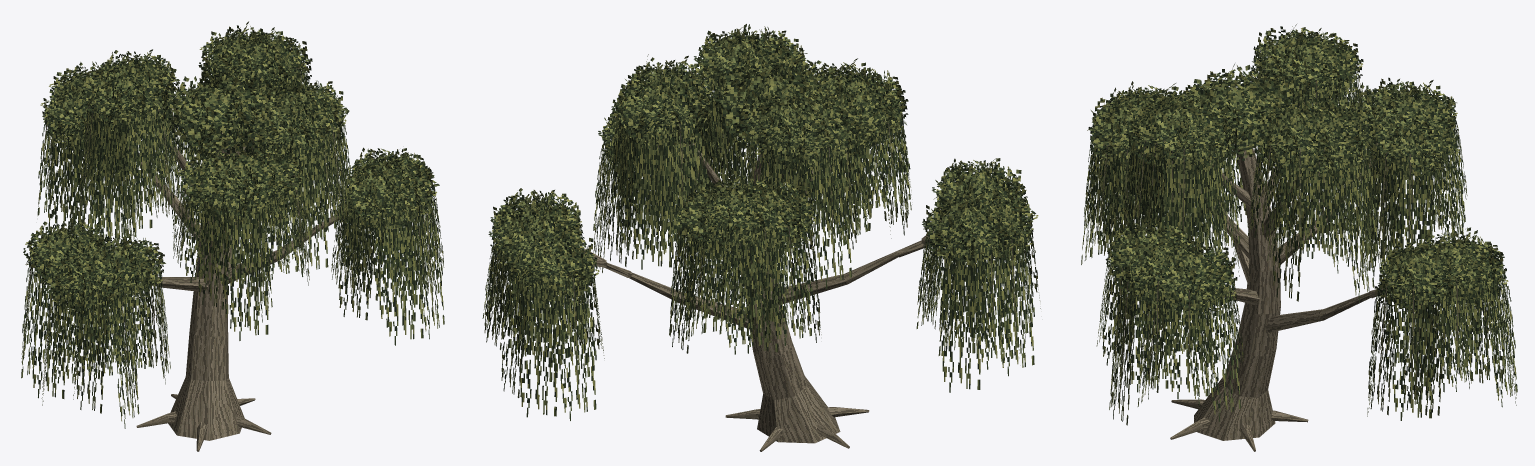
File: TREE_Willow_A.glb
3 views of the same model, side by side, from view 1: azimuth 30°, elevation 25°; view 2: azimuth 150°, elevation 25°; view 3: azimuth 270°, elevation 25° (orthographic). The views are drawn at different scales.
Visible parts, largest first — view 1: TREE_Willow_A__Card, TREE_Willow_A__Bark, TREE_Willow_A__Foliage; view 2: TREE_Willow_A__Card, TREE_Willow_A__Bark, TREE_Willow_A__Foliage; view 3: TREE_Willow_A__Card, TREE_Willow_A__Bark, TREE_Willow_A__Foliage.
Part boxes in pixels (<box>): TREE_Willow_A__Card: <box>21,21,444,428</box>; TREE_Willow_A__Bark: <box>23,57,437,451</box>; TREE_Willow_A__Foliage: <box>49,51,399,286</box>; TREE_Willow_A__Card: <box>482,24,1040,420</box>; TREE_Willow_A__Bark: <box>491,120,1016,451</box>; TREE_Willow_A__Foliage: <box>519,50,996,274</box>; TREE_Willow_A__Card: <box>1081,24,1517,425</box>; TREE_Willow_A__Bark: <box>1097,68,1487,451</box>; TREE_Willow_A__Foliage: <box>1116,55,1468,287</box>.
Bounding box in the file's own units: 10.82 × 8.96 × 9.68.
3 materials, 3 textured.
